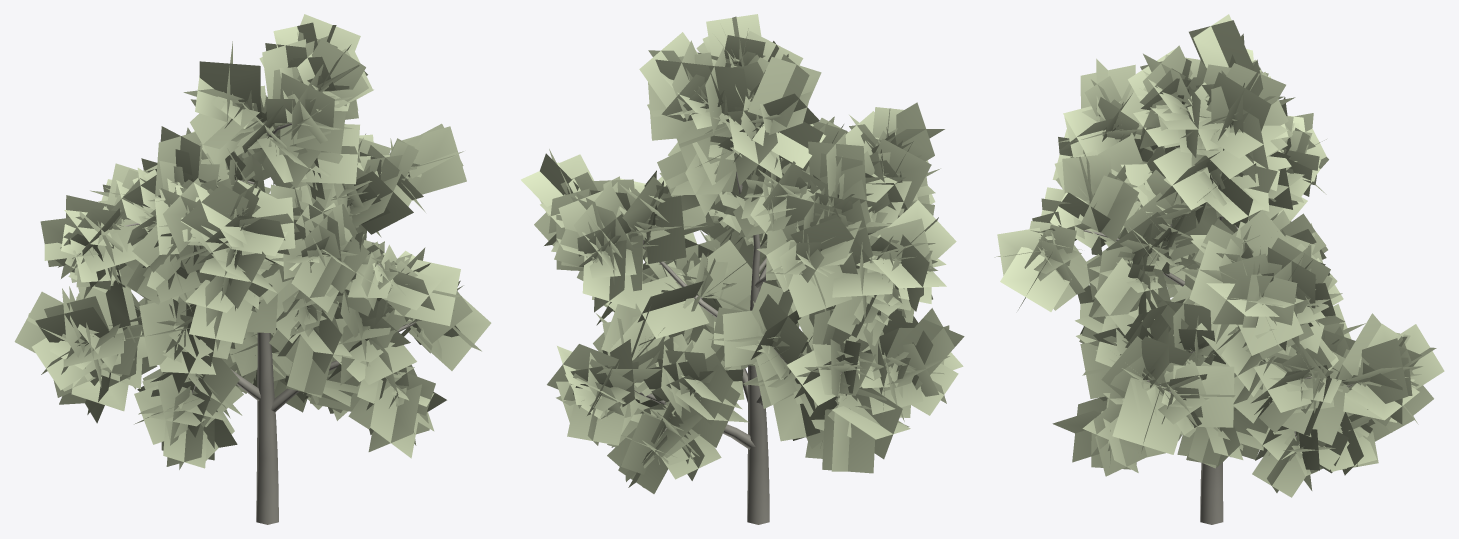
The model's file is maple.glb.
3 views of the same model, side by side, from view 1: azimuth 30°, elevation 25°; view 2: azimuth 150°, elevation 25°; view 3: azimuth 270°, elevation 25° (orthographic). The views are drawn at different scales.
Bounding box in the file's own units: 13.09 × 14 × 11.61.
